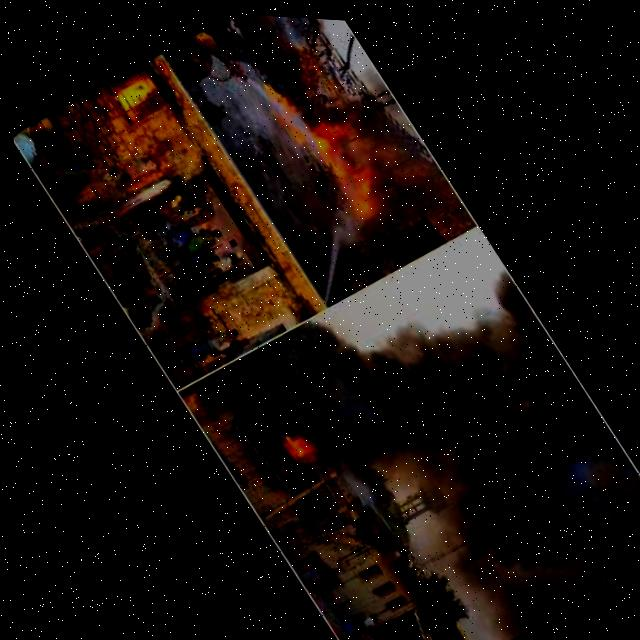Fire: (102, 63, 174, 133), (331, 154, 401, 222), (267, 414, 328, 479), (301, 107, 359, 165)
Smoke: (271, 240, 640, 640)
